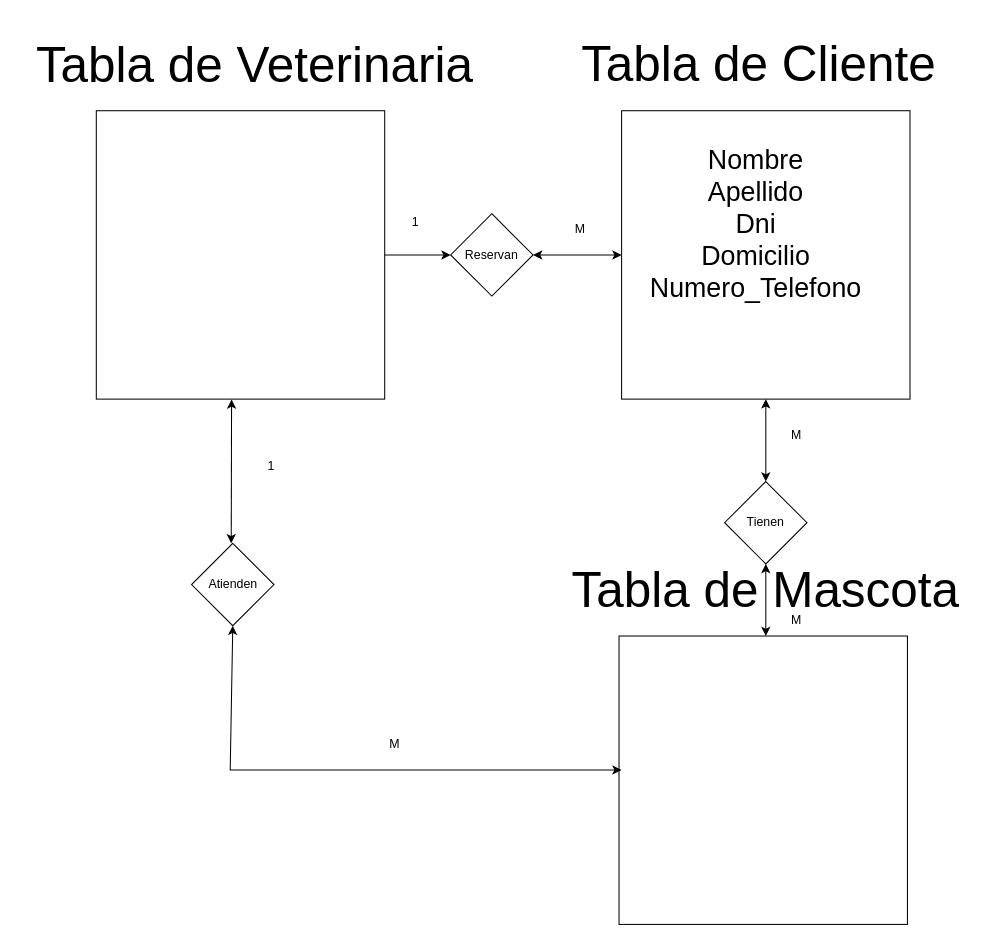
The diagram is 992 pixels wide and 942 high, and some of its shapes have lost their labels. The box of each missing label's shape, as (x1, y1, x2, y2) in pixels:
Nombre Sexo Especie Numero_Identificación Nombre_Dueño: (618, 635, 907, 924)
Nombre_Cliente Numero_orden Nombre_Mascota Servicios: (95, 110, 385, 399)
